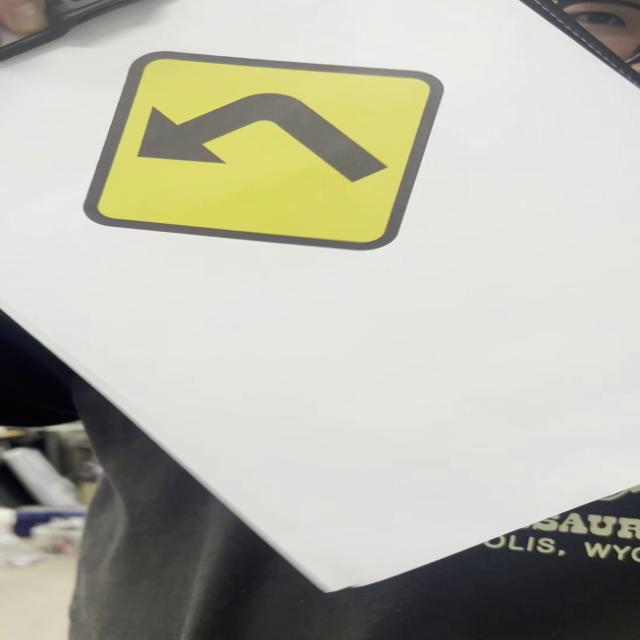left: (83, 50, 446, 254)
